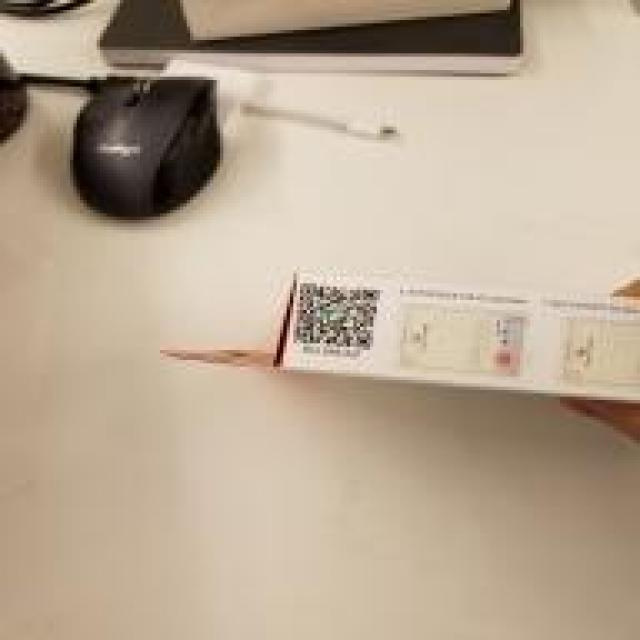qr_code: (291, 284, 381, 350)
